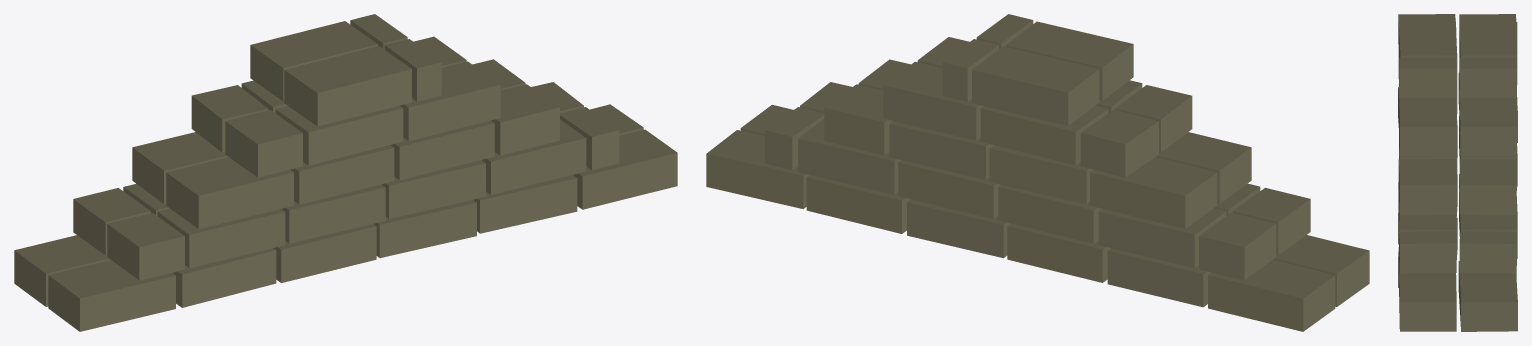
Rendered from SM_PretilTramo_v1_Talud_e0_Sano_LOD0.fbx.
The picture shows the model from 3 angles, left to right: view 1: azimuth 30°, elevation 25°; view 2: azimuth 150°, elevation 25°; view 3: azimuth 270°, elevation 25°; orthographic projection. The views are drawn at different scales.
Parts seen in each view (by area): view 1: SM_pretil_azotea_v4_LOD0; view 2: SM_pretil_azotea_v4_LOD0; view 3: SM_pretil_azotea_v4_LOD0.
Boxes of the visible parts, x1=… form: SM_pretil_azotea_v4_LOD0: x1=14, y1=14, x2=677, y2=331; SM_pretil_azotea_v4_LOD0: x1=706, y1=14, x2=1369, y2=331; SM_pretil_azotea_v4_LOD0: x1=1398, y1=14, x2=1517, y2=331.
Size of the model in its own units: 5.07 by 1.47 by 0.9919.
